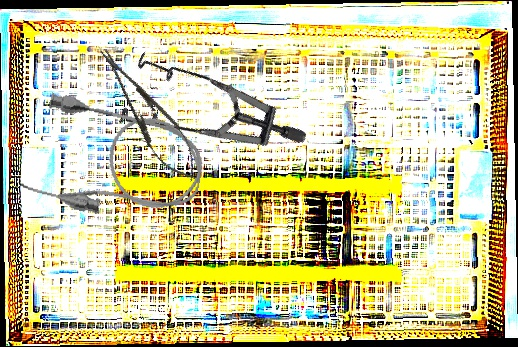Cannula: (18, 90, 212, 234)
Needle Holder: (88, 39, 210, 190)
Speculum: (94, 6, 310, 226)
